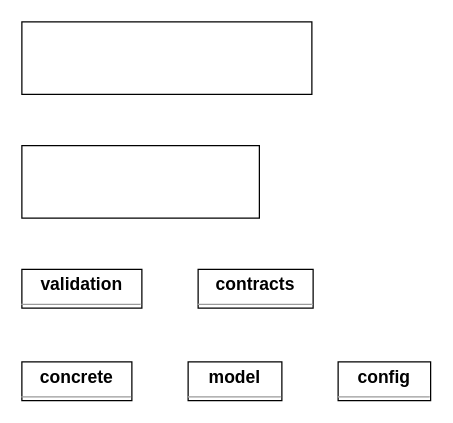
Image size: 453x423. Some labels were removed from this diagram. Each missing label, with the box of its shape:
PaymentServiceFactorySelector getFactory(paymentMethod):: (21, 21, 312, 94)
PaymentStrategy getFactory(paymentMethod):: (21, 144, 259, 218)
